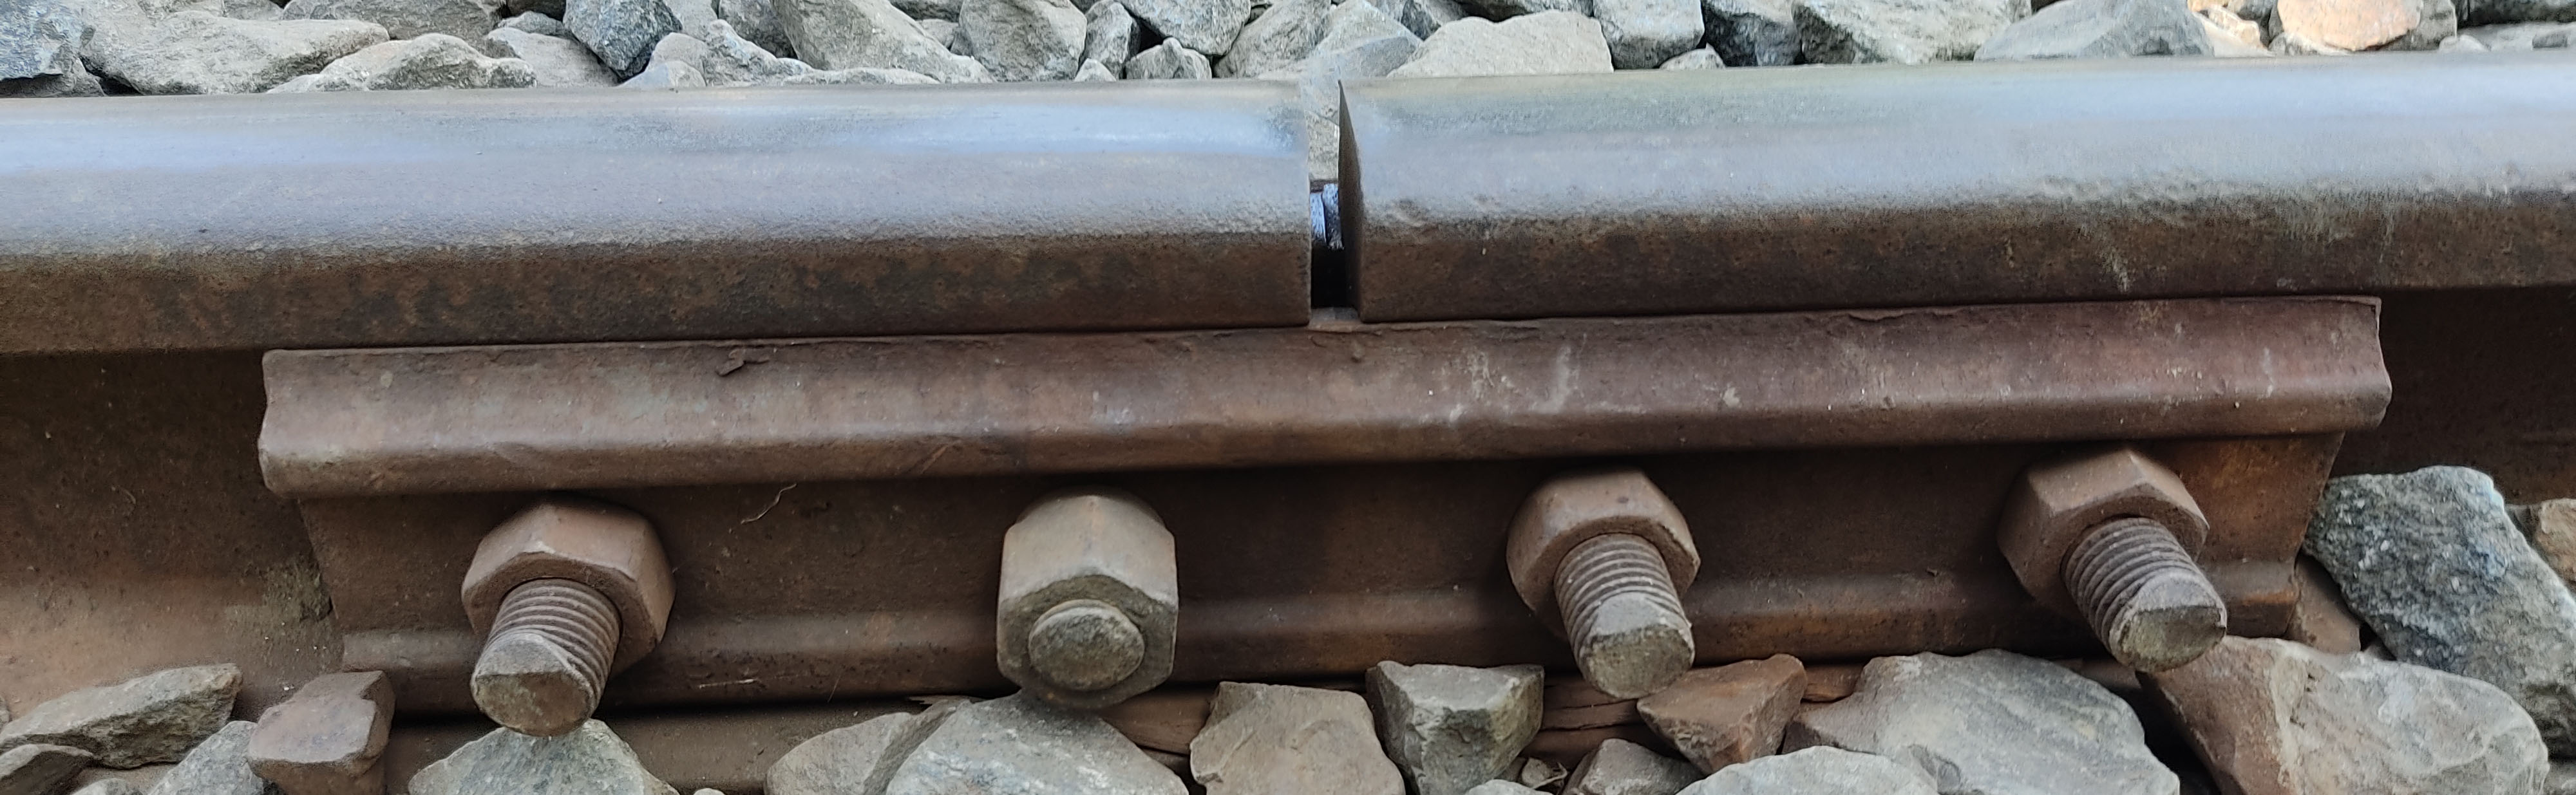error2: (1240, 44, 1487, 322)
